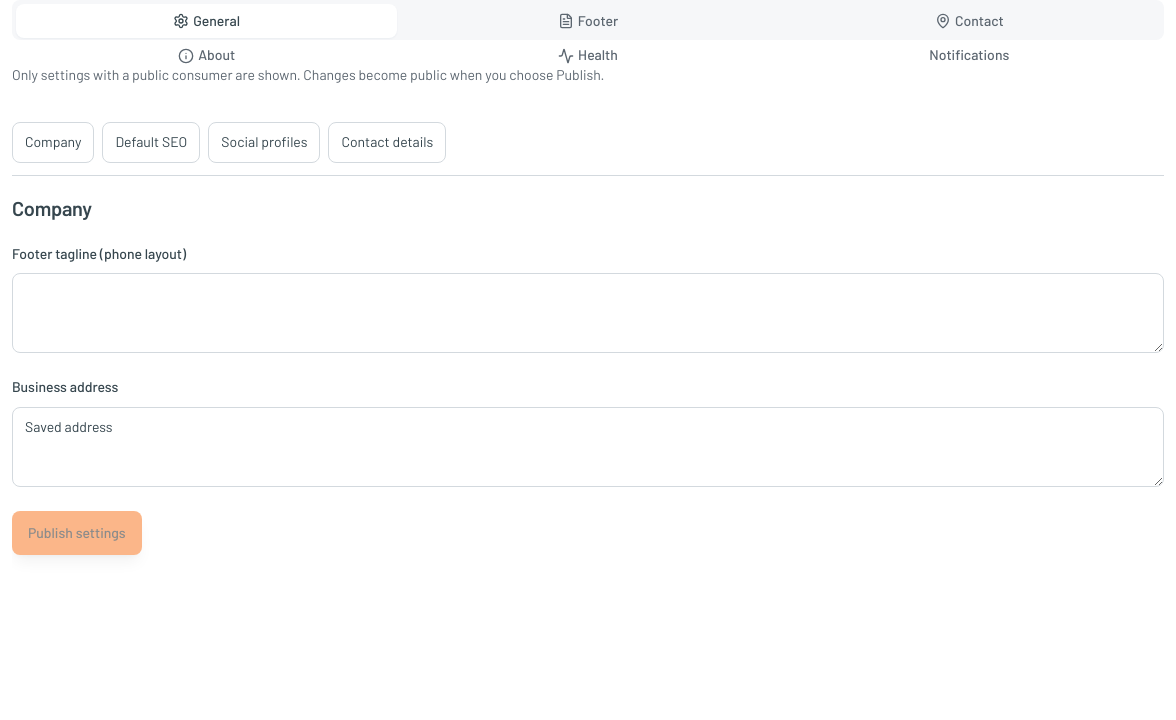
Scenario: settings save and tab guards › hides Security and offers an explicit Create state for a missing About record
Press the mouse on the tab "About" at (207, 56), box [16,38,397,73]
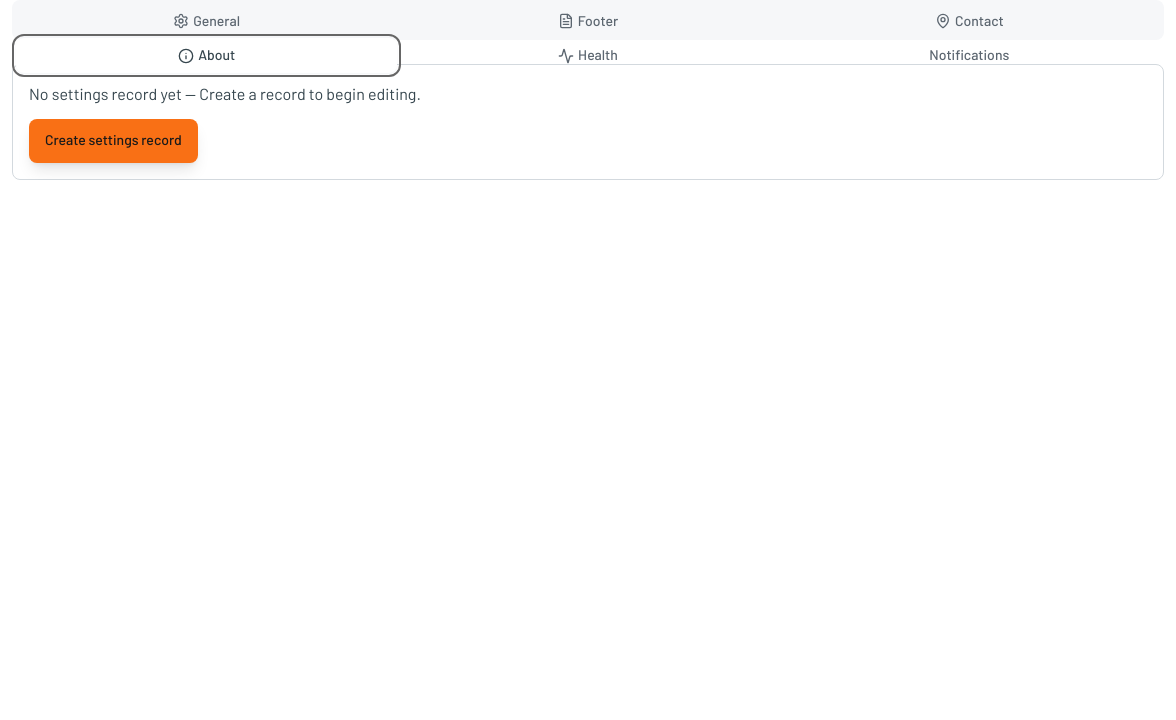
Expected: the button "Create settings record" is shown, [29,119,198,163]
